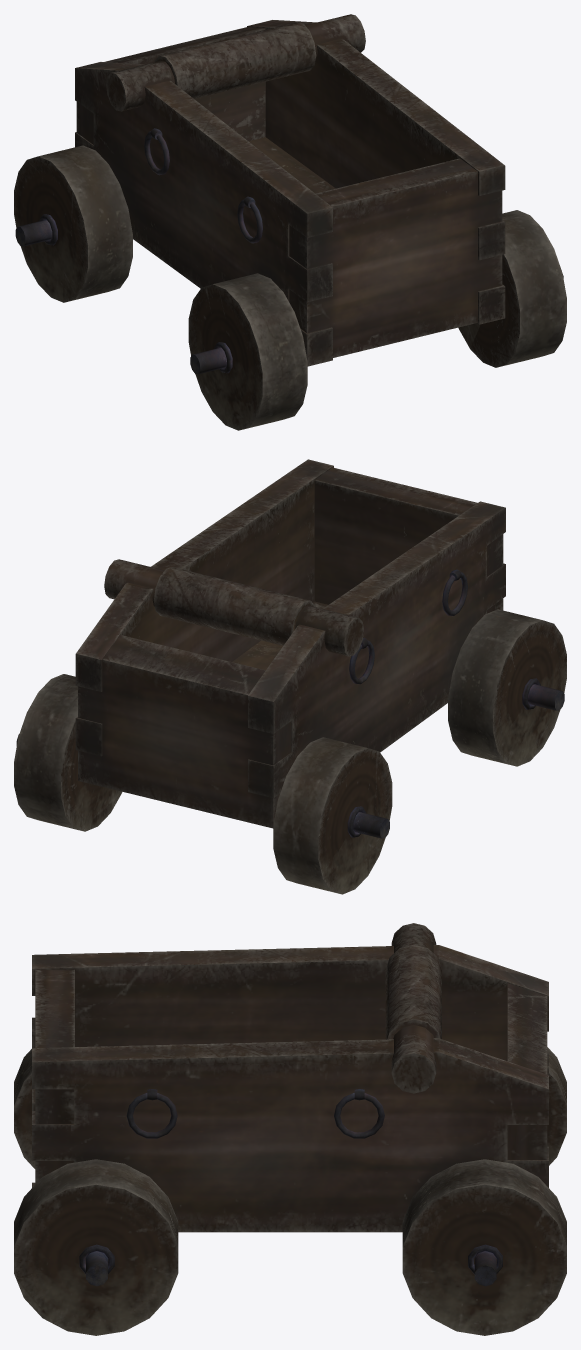
Rendered from SM_Dongcha.fbx.
The picture shows the model from 3 angles, top to bottom: view 1: azimuth 30°, elevation 25°; view 2: azimuth 150°, elevation 25°; view 3: azimuth 270°, elevation 25°; orthographic projection. The views are drawn at different scales.
Visible parts, largest first — view 1: SM_Dongcha; view 2: SM_Dongcha; view 3: SM_Dongcha.
Part boxes in pixels (<box>): SM_Dongcha: <box>14,14,566,430</box>; SM_Dongcha: <box>14,459,566,894</box>; SM_Dongcha: <box>14,923,566,1335</box>.
Bounding box in the file's own units: 42.25 × 50.04 × 27.04.
